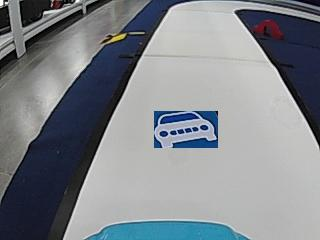bridge: (254, 18, 282, 39)
